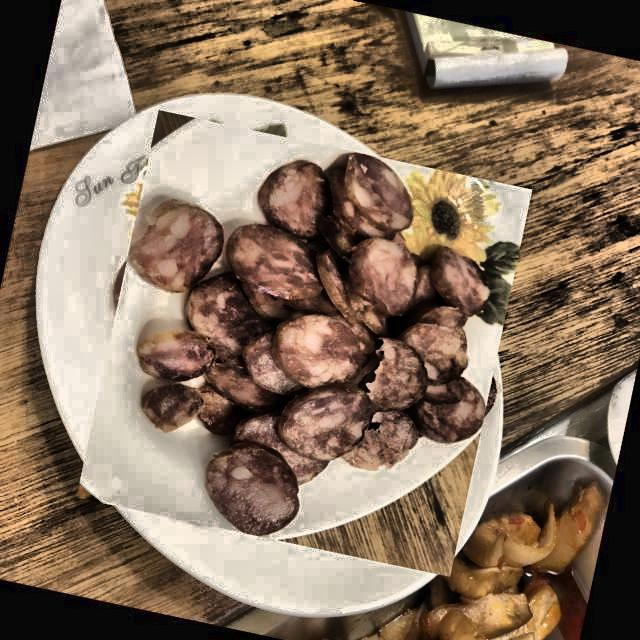Food: (72, 112, 534, 574)
